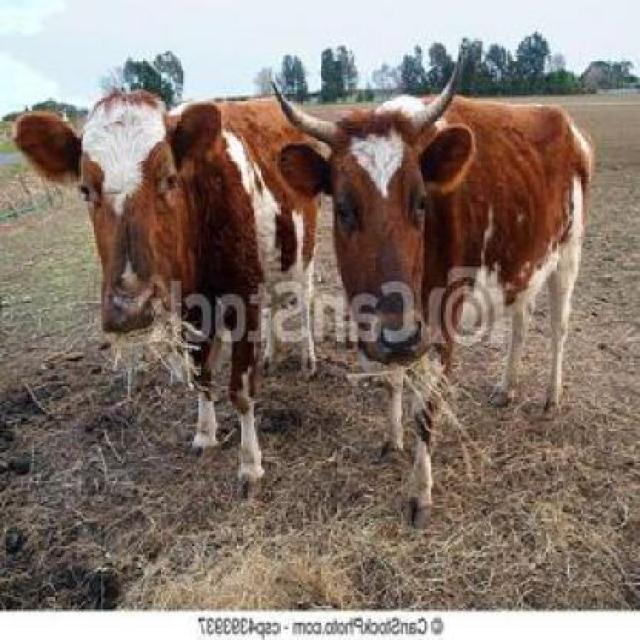Cow: (267, 54, 598, 535), (6, 88, 331, 506)
